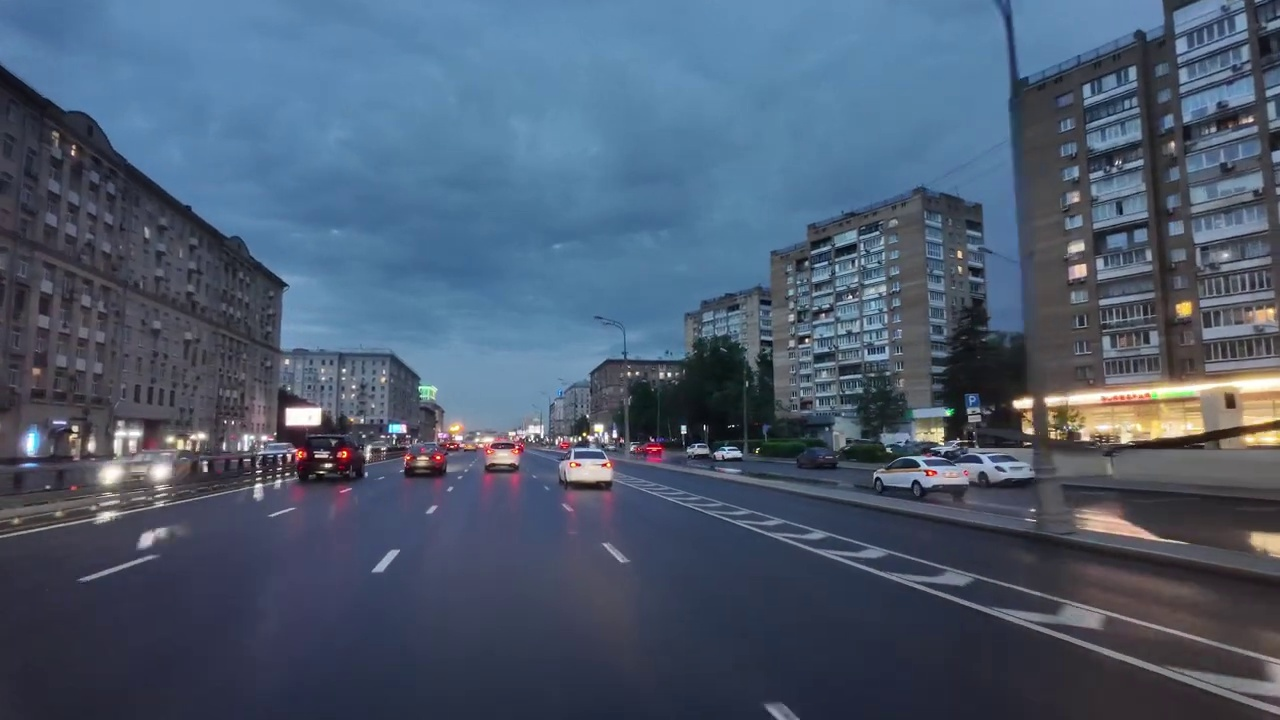apagada: (587, 310, 621, 331)
